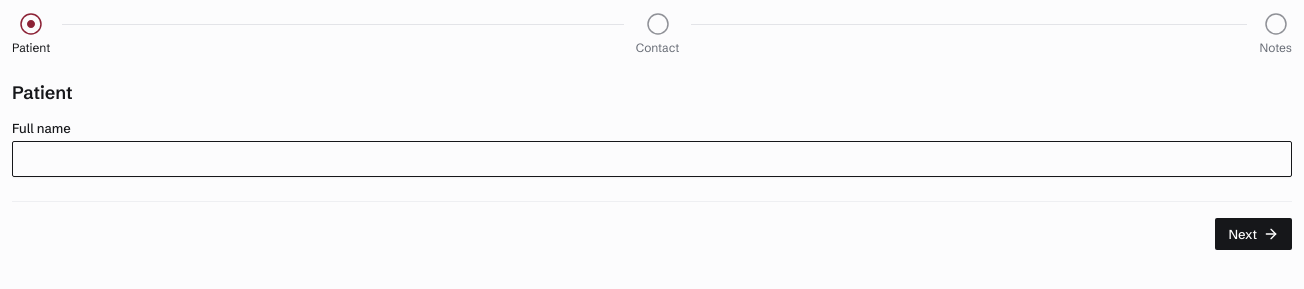
Test: FormWizard navigation › validates only the current step with its schema, showing the error and focusing the field
Click the button named "Next": {"x": 1254, "y": 234} [1215,218,1292,250]
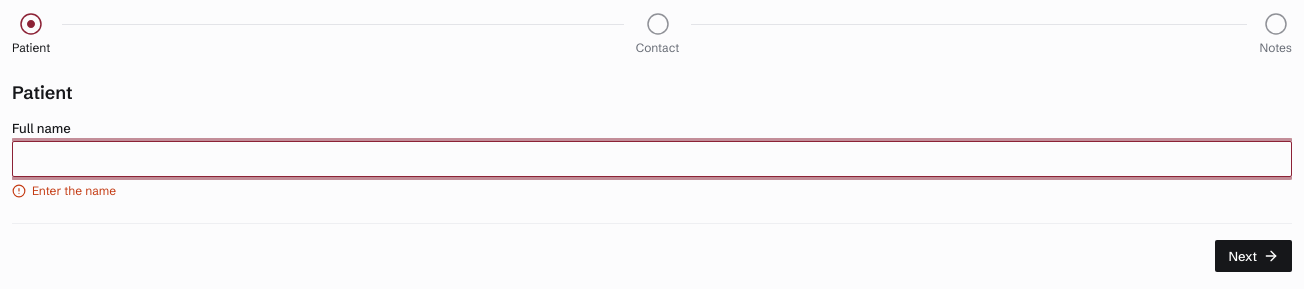
Expected: the heading "Patient" is shown, [12,80,73,106]
Now the text "Enter the name" is shown, box [32,183,116,199]
